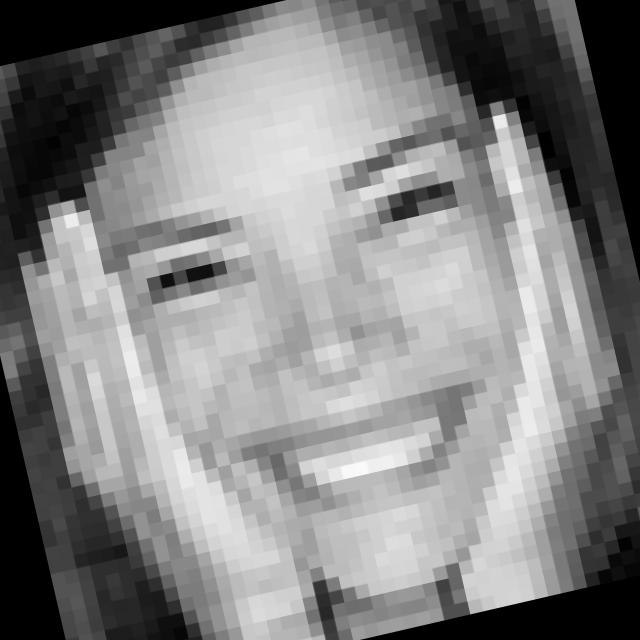happy: (86, 100, 561, 563)
